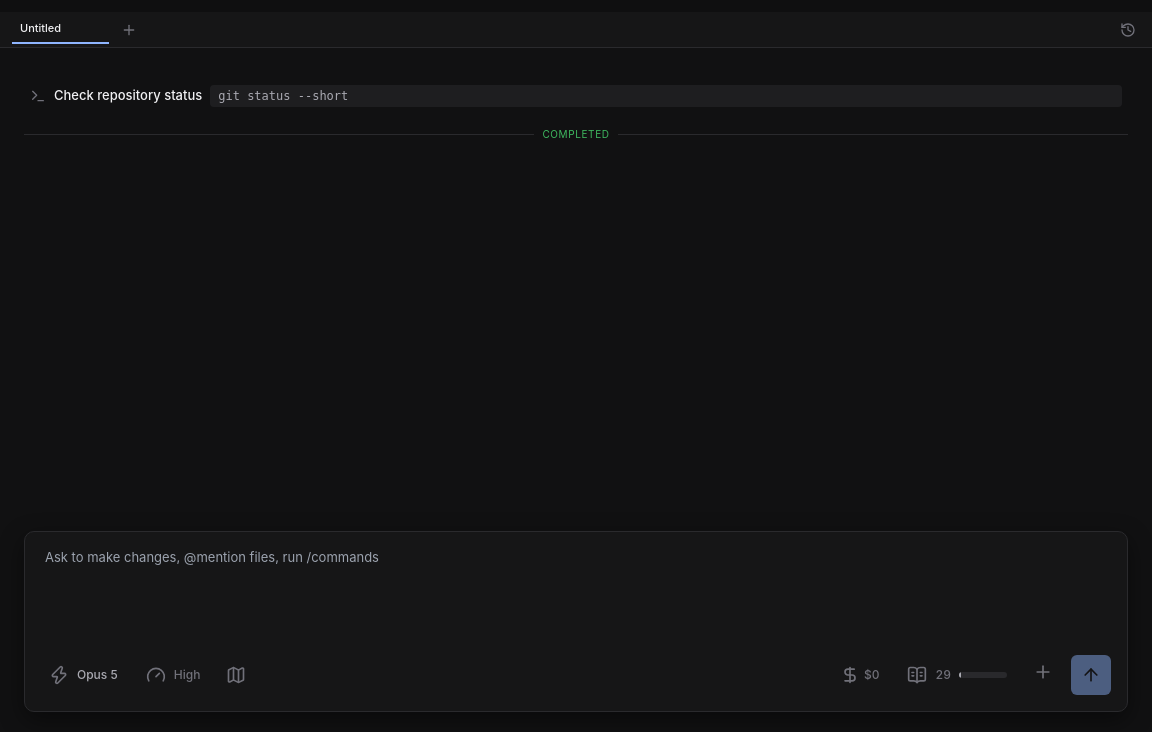
Test: ChatPanel reconstruction › renders semantic tool summaries with expandable command output
The image size is (1152, 732).
Expected: the element with test id "tool-card" shows "git status --short", [218, 89, 348, 103]
Expected: the text "M src/renderer/features/chat/ToolCard.tsx" is not shown
Click the button "Check repository status" at (116, 96), box [30, 86, 202, 106]
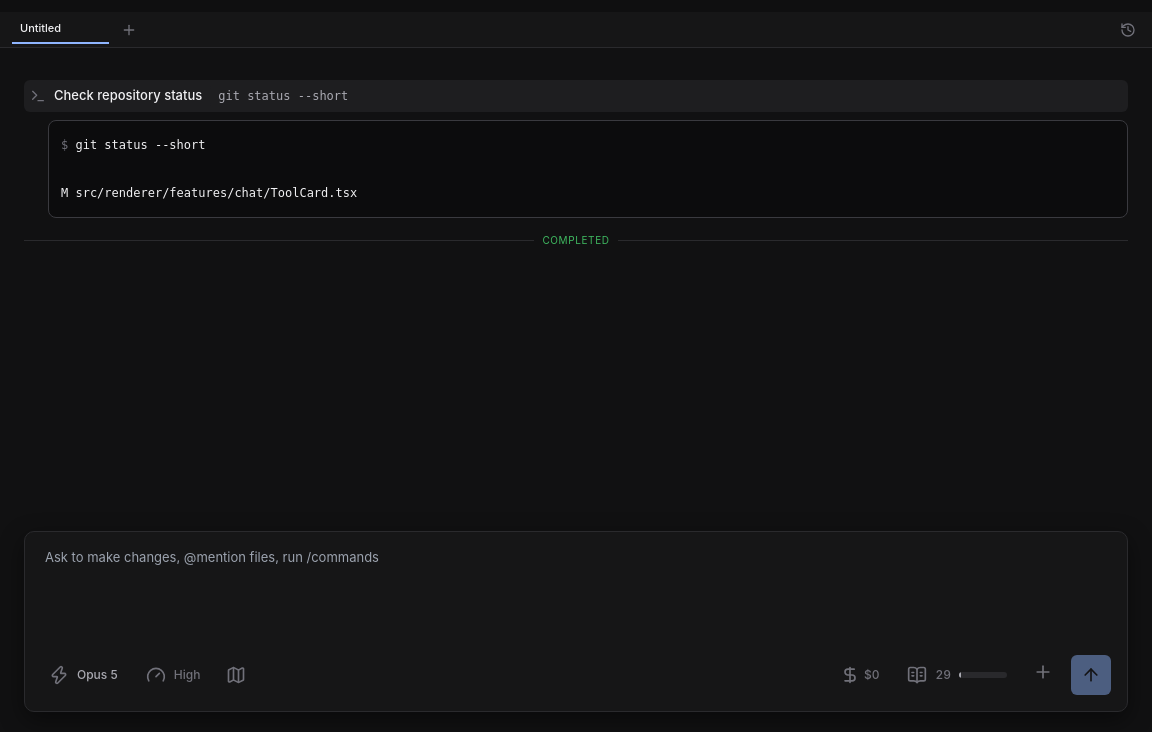
Expected: the element with test id "tool-card-detail" shows "M src/renderer/features/chat/ToolCard.tsx", [61, 186, 357, 200]
